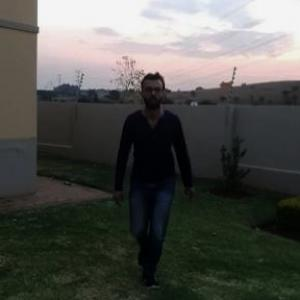follow: (117, 73, 188, 282)
